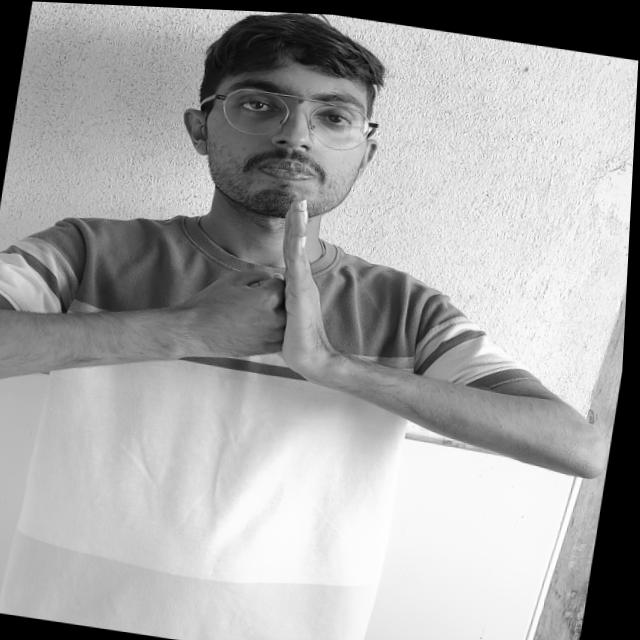Well Done: (125, 163, 455, 444)
